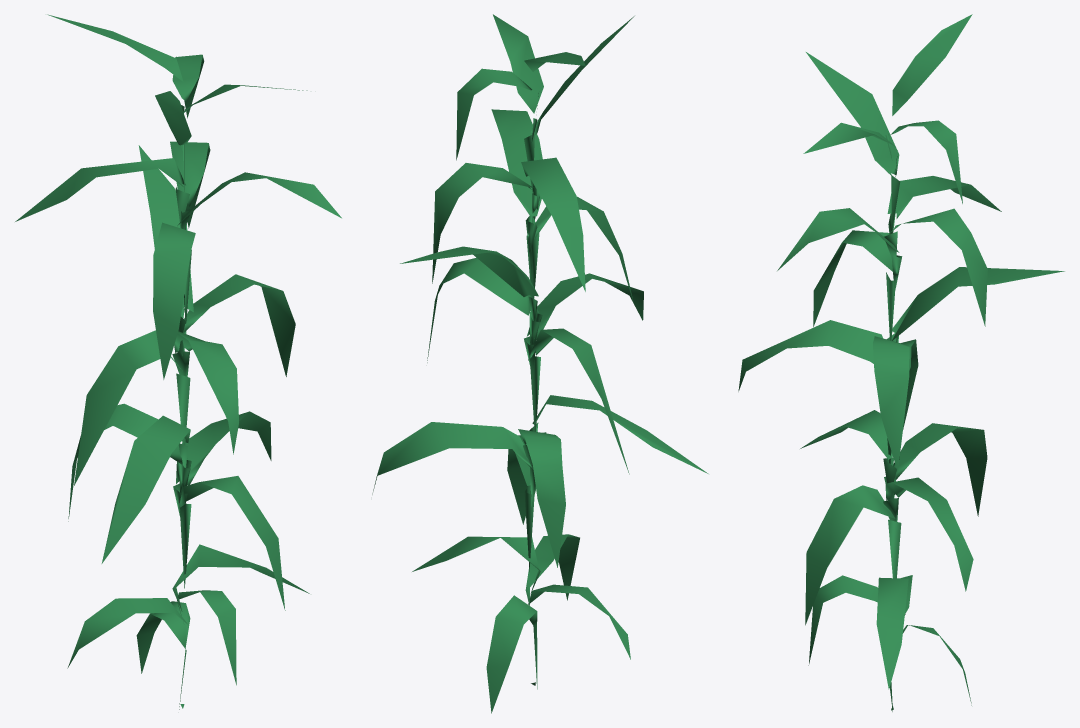
The model's file is cornLOD4.gltf.
3 views of the same model, side by side, from view 1: azimuth 30°, elevation 25°; view 2: azimuth 150°, elevation 25°; view 3: azimuth 270°, elevation 25° (orthographic). The views are drawn at different scales.
Parts seen in each view (by area): view 1: LeavesLOD4; view 2: LeavesLOD4; view 3: LeavesLOD4.
Boxes of the visible parts, x1=… form: LeavesLOD4: x1=15, y1=14, x2=341, y2=709; LeavesLOD4: x1=372, y1=14, x2=708, y2=713; LeavesLOD4: x1=738, y1=14, x2=1064, y2=711.
Bounding box in the file's own units: 113 × 290 × 131.
